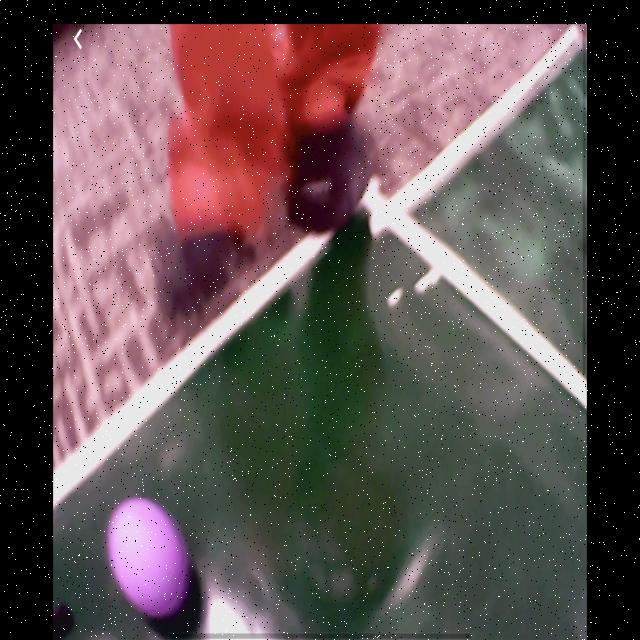ball: (107, 497, 192, 619)
